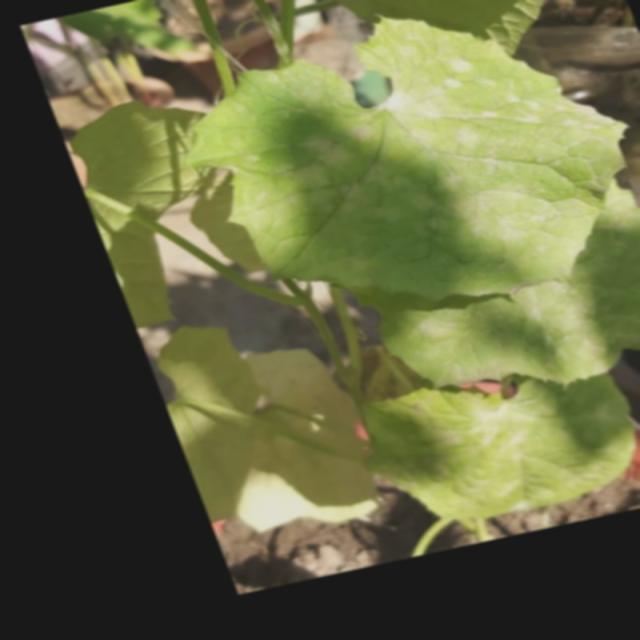Powdery_Mildew: (206, 11, 640, 296), (316, 186, 640, 375), (354, 381, 640, 514)
